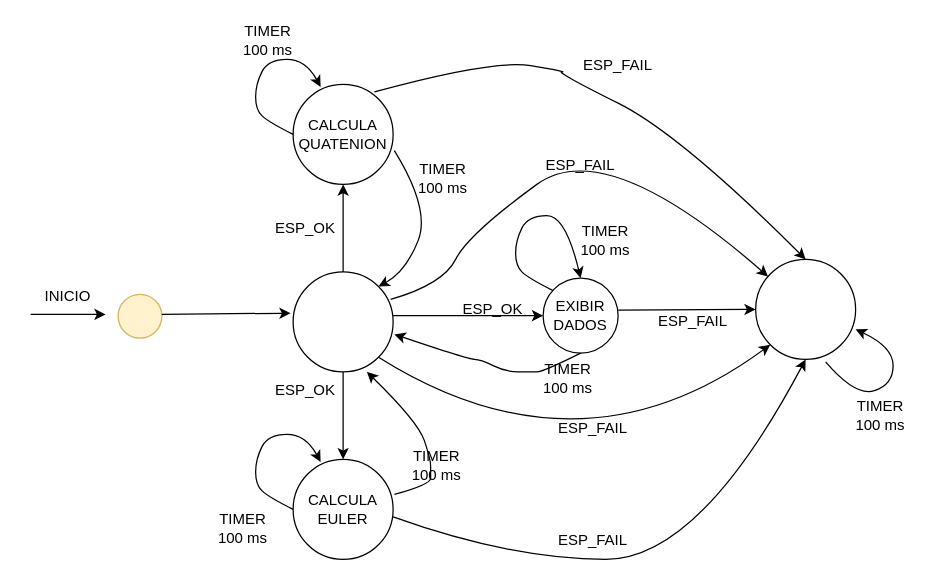
Some shapes in this 940 by 581 pixel diagram are drawn without their labels. Here are the shapes that lost their labels. From the top down, the box of each, then its label:
(292, 271, 393, 372): LER DADOS
(754, 258, 856, 359): PRINT ERROR
